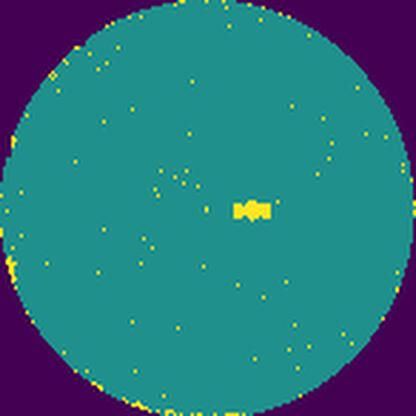Loc: (231, 200, 272, 225)
